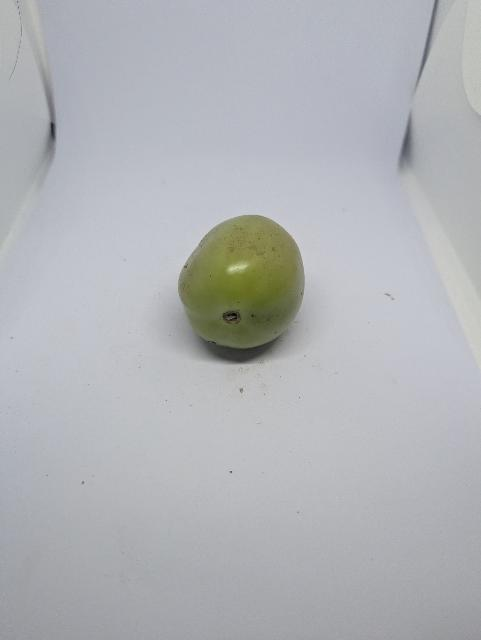green: (177, 213, 309, 349)
